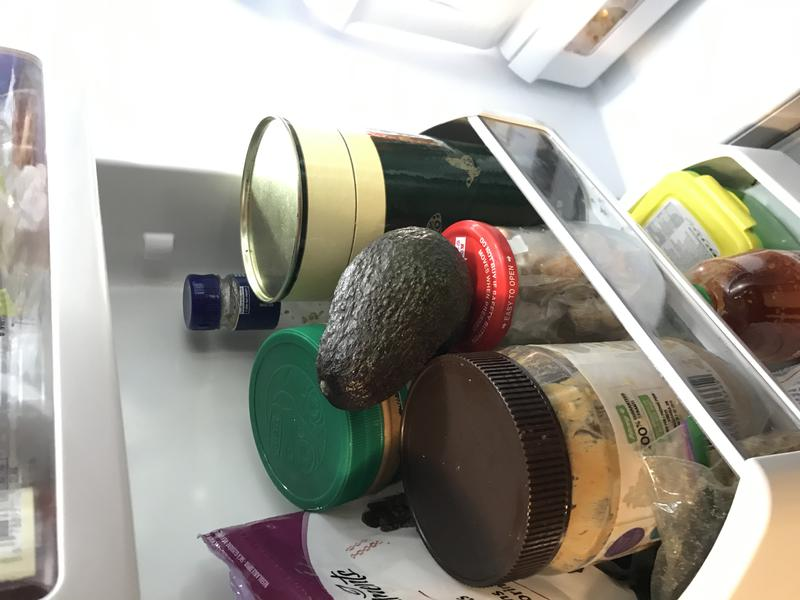avacado: (311, 223, 479, 419)
